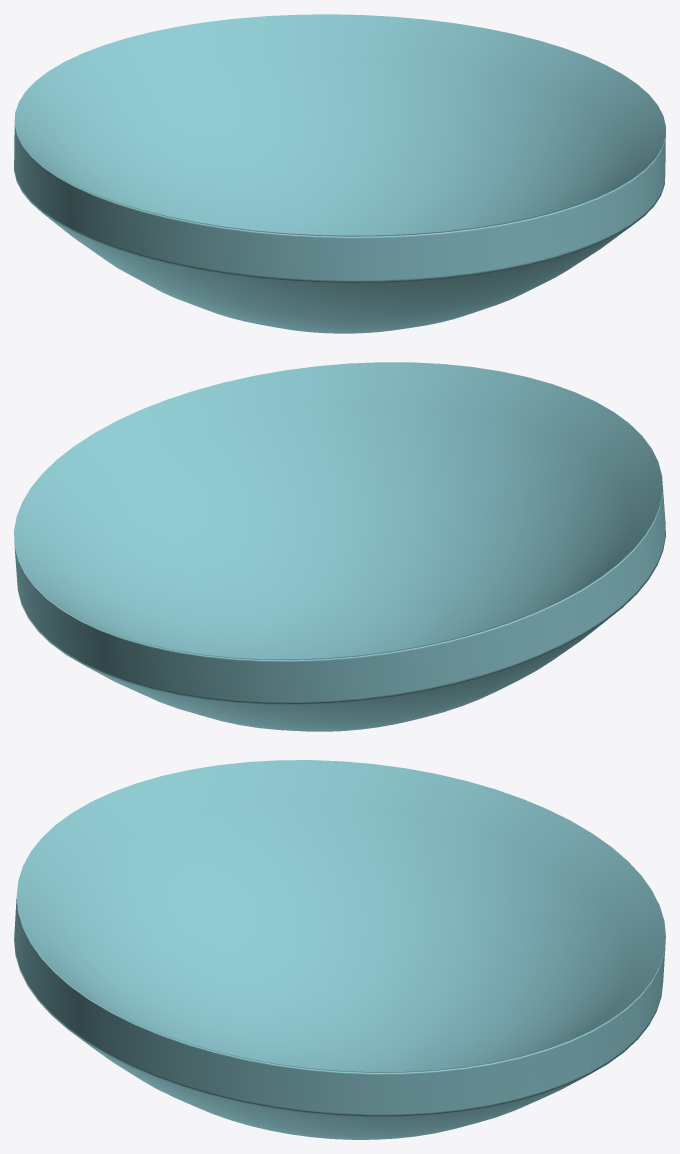
The picture shows the model from 3 angles, top to bottom: view 1: azimuth 30°, elevation 25°; view 2: azimuth 150°, elevation 25°; view 3: azimuth 270°, elevation 25°; orthographic projection.
Visible parts, largest first — view 1: 右侧角膜; view 2: 右侧角膜; view 3: 右侧角膜.
Part boxes in pixels (<box>): 右侧角膜: <box>14,14,665,333</box>; 右侧角膜: <box>14,362,665,731</box>; 右侧角膜: <box>14,760,665,1139</box>.
Bounding box in the file's own units: 0.0209 × 0.0073 × 0.0209.
